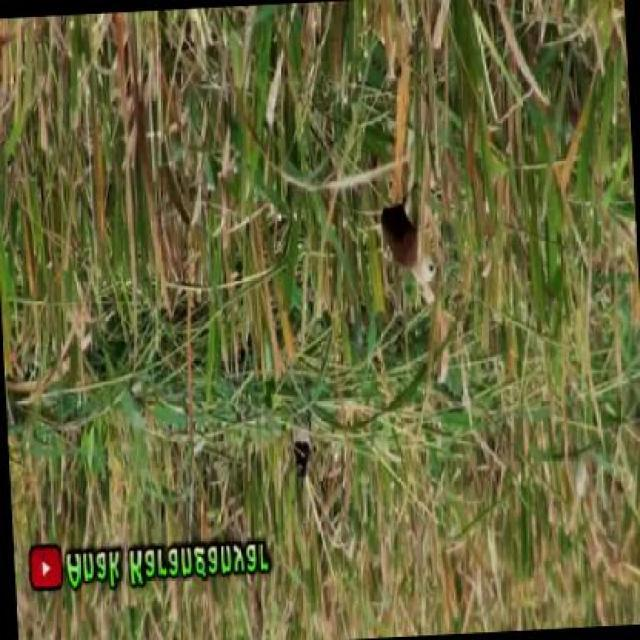Bird: (368, 192, 447, 285)
